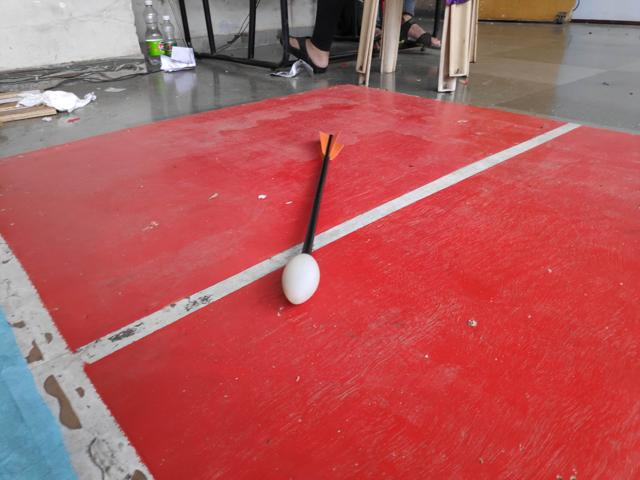Head: (280, 250, 324, 308)
Tail: (315, 129, 346, 162)
